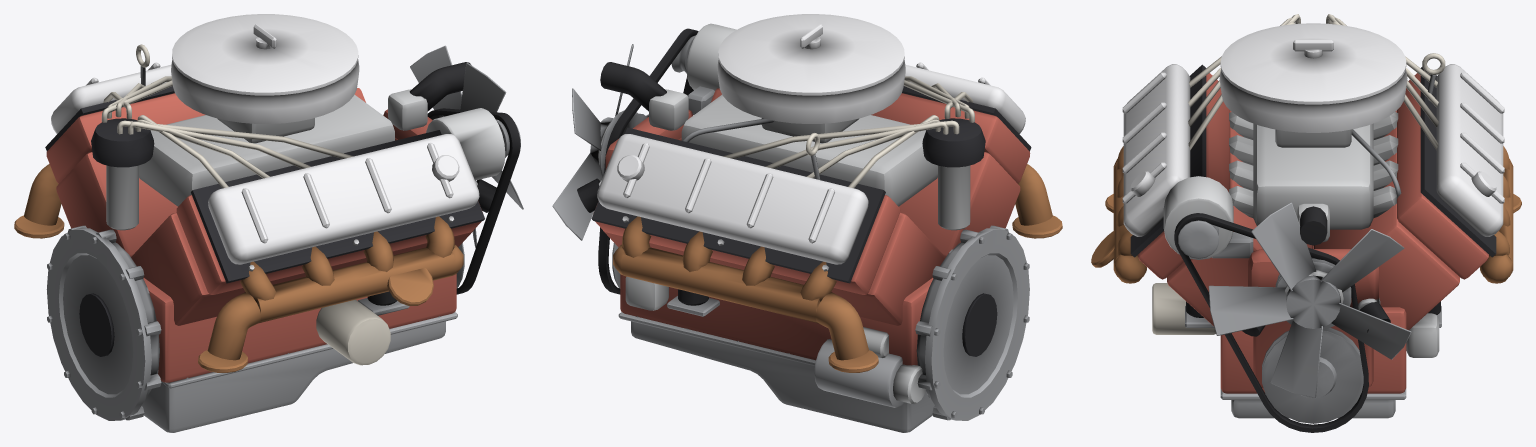
Rendered from eng_v8.glb.
3 views of the same model, side by side, from view 1: azimuth 30°, elevation 25°; view 2: azimuth 150°, elevation 25°; view 3: azimuth 270°, elevation 25° (orthographic).
Parts seen in each view (by area): view 1: PART; view 2: PART; view 3: PART.
Part boxes in pixels (left/top/right/bottom): PART: left=14, top=14, right=523, bottom=432; PART: left=552, top=14, right=1062, bottom=432; PART: left=1091, top=14, right=1521, bottom=432.
Size of the model in its own units: 0.8044 by 0.6934 by 0.7876.
